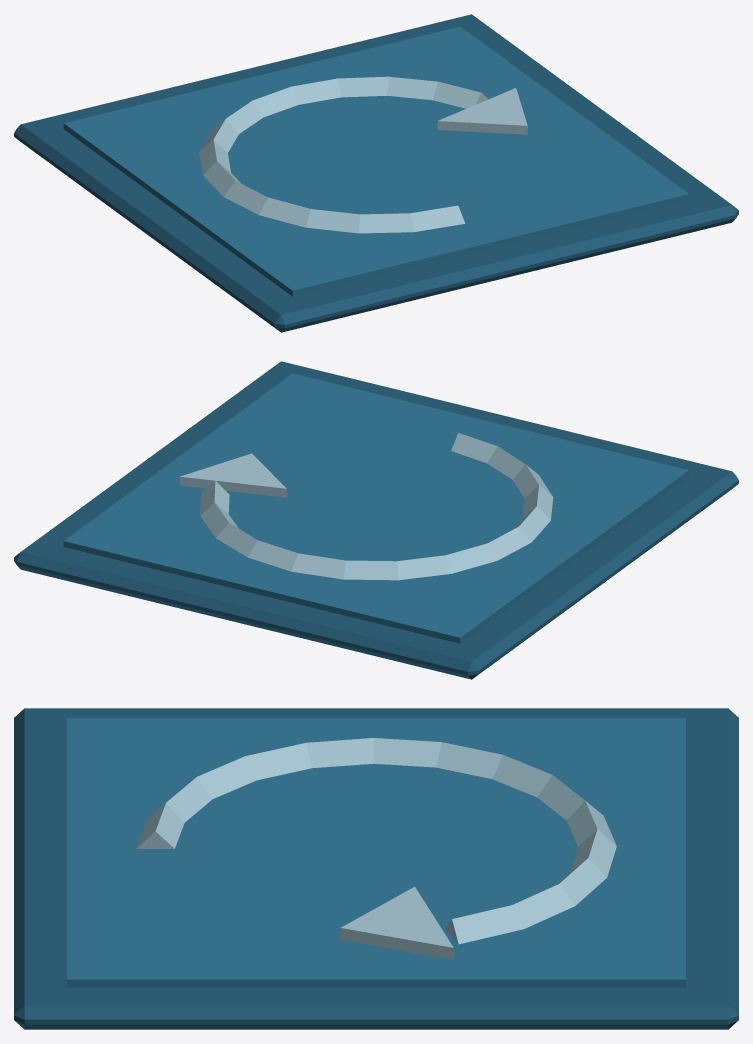
The model's file is plate_return.glb.
3 renders of one model, top to bottom at view 1: azimuth 30°, elevation 25°; view 2: azimuth 150°, elevation 25°; view 3: azimuth 270°, elevation 25°, orthographic. The views are drawn at different scales.
Parts seen in each view (by area): view 1: mat; view 2: mat; view 3: mat.
Boxes of the visible parts, box(x1,y1,x2,y2) form: mat: box(14, 14, 738, 332); mat: box(14, 361, 738, 679); mat: box(14, 708, 738, 1029).
Bounding box in the file's own units: 0.82 × 0.062 × 0.82.
